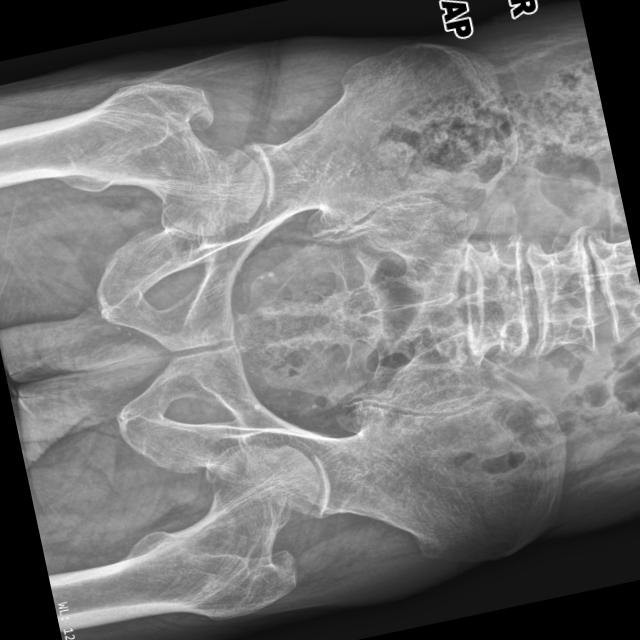normal-left: (47, 442, 318, 633)
normal-right: (0, 81, 263, 235)
